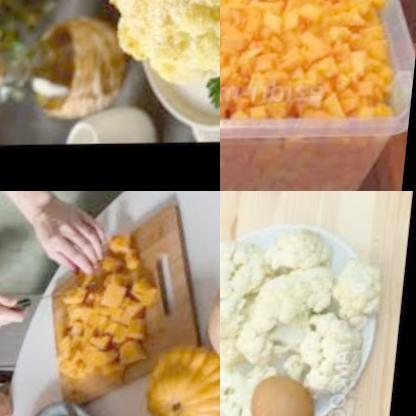cayliflower: (220, 216, 393, 391), (86, 0, 220, 102), (220, 358, 272, 416)
pumpkin: (220, 0, 412, 133), (52, 229, 160, 384), (140, 341, 220, 416), (201, 260, 220, 369)
